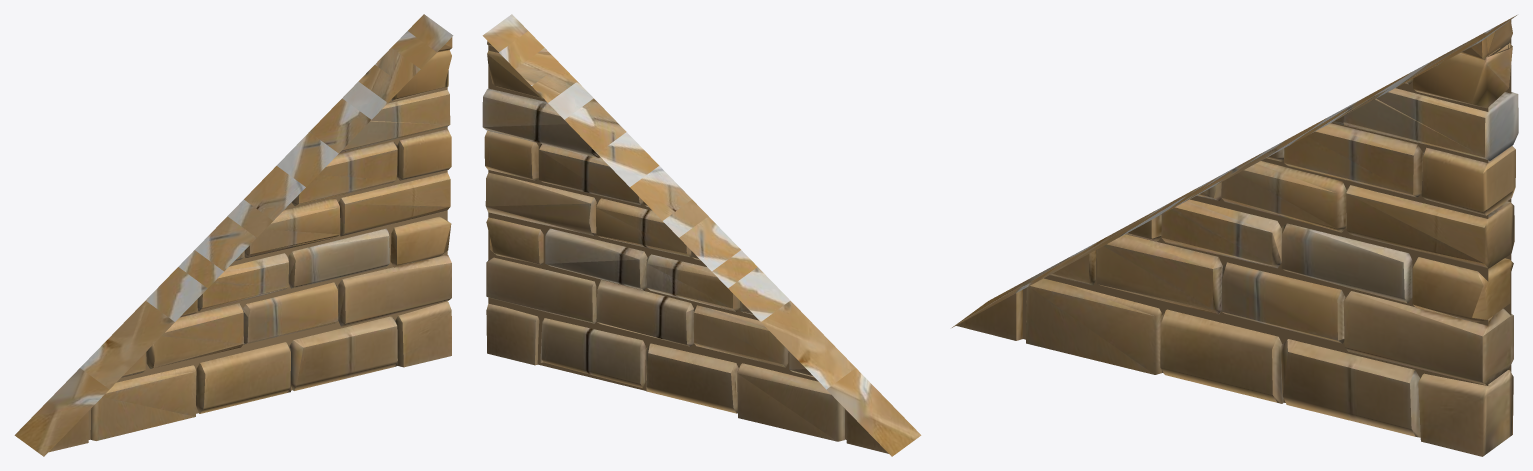
Rendered from wall-plaster-gable.glb.
3 renders of one model, left to right at view 1: azimuth 30°, elevation 25°; view 2: azimuth 150°, elevation 25°; view 3: azimuth 330°, elevation 25°, orthographic. The views are drawn at different scales.
Bounding box in the file's own units: 2 × 1.5 × 0.25.
1 material, 1 textured.
